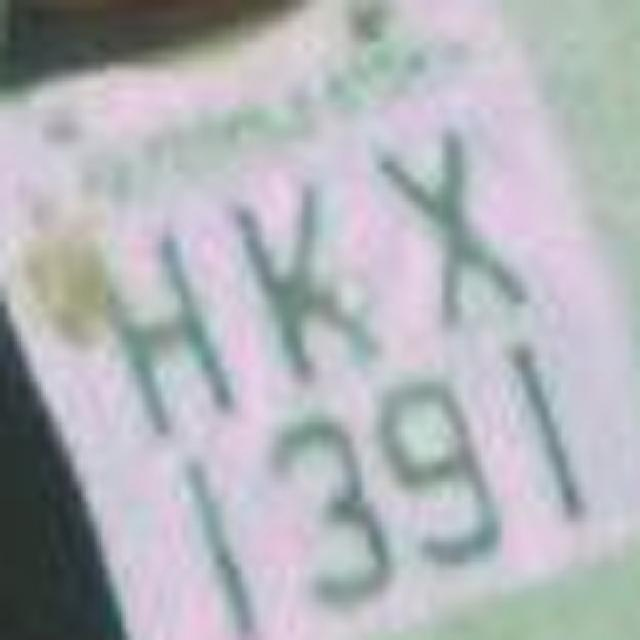1: (488, 312, 604, 536), (176, 432, 289, 632)
3: (240, 376, 408, 632)
8: (380, 348, 512, 584)
9: (364, 328, 508, 588)
H: (95, 216, 240, 444)
X: (349, 112, 556, 336)
